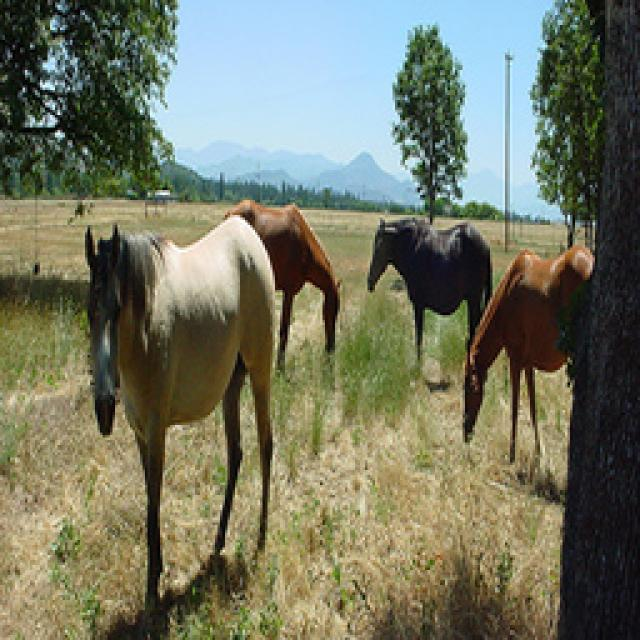Horse: (80, 217, 277, 640), (456, 232, 606, 463), (364, 213, 493, 332), (250, 203, 344, 344)
